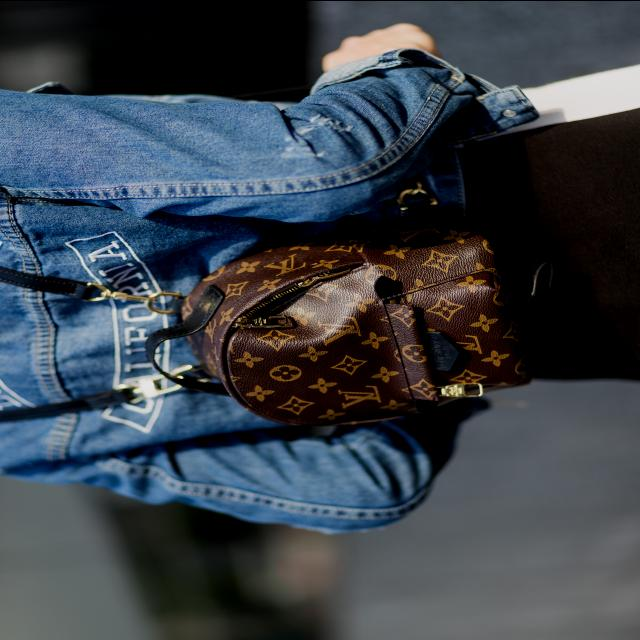backpack: (145, 219, 533, 442)
